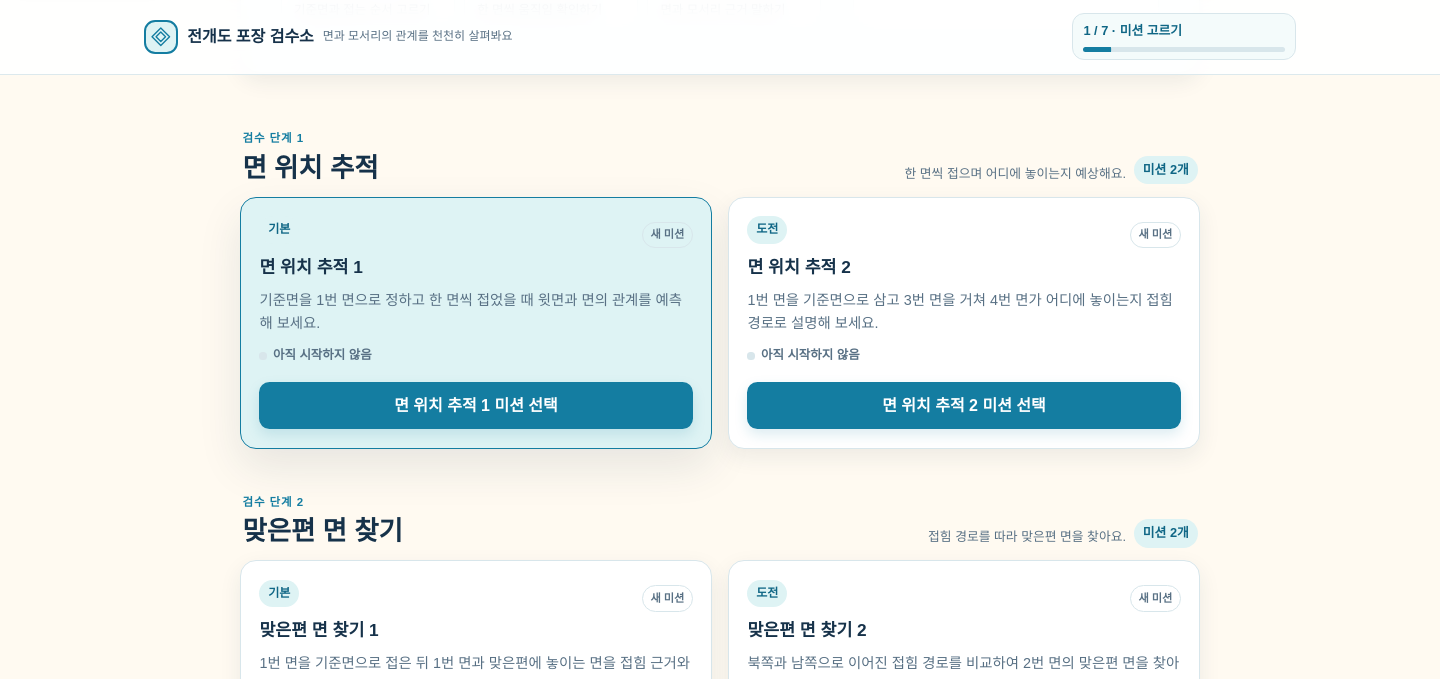
Scenario: AppShell › shows stage progress and lets a learner return to mission selection
The image size is (1440, 679).
(page scrolled)
Click the button "면 위치 추적 1 미션 선택". click: point(476, 406)
box: 259,382 -> 693,429
(page scrolled)
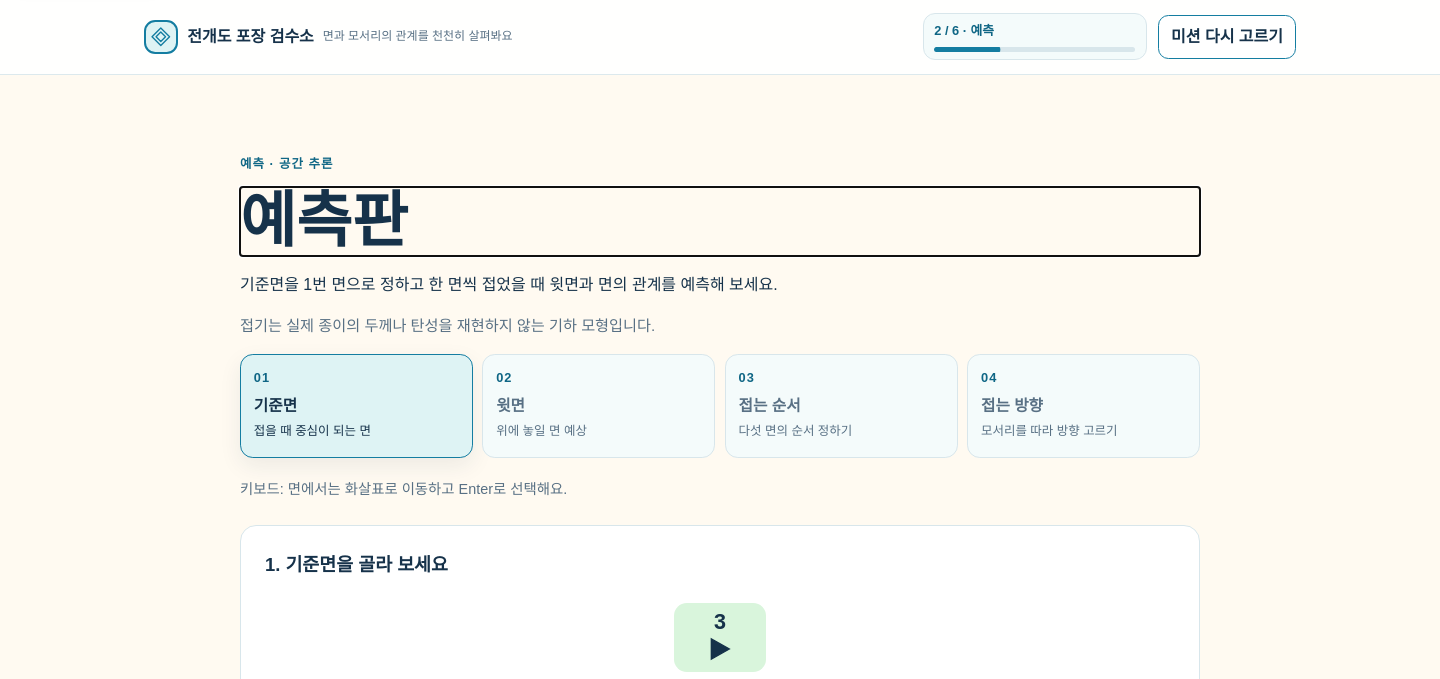
Expected: the text "2 / 6 · 예측" is shown, 934,23 -> 994,38
Click the button "미션 다시 고르기". click: point(1227, 37)
box: 1158,15 -> 1296,59
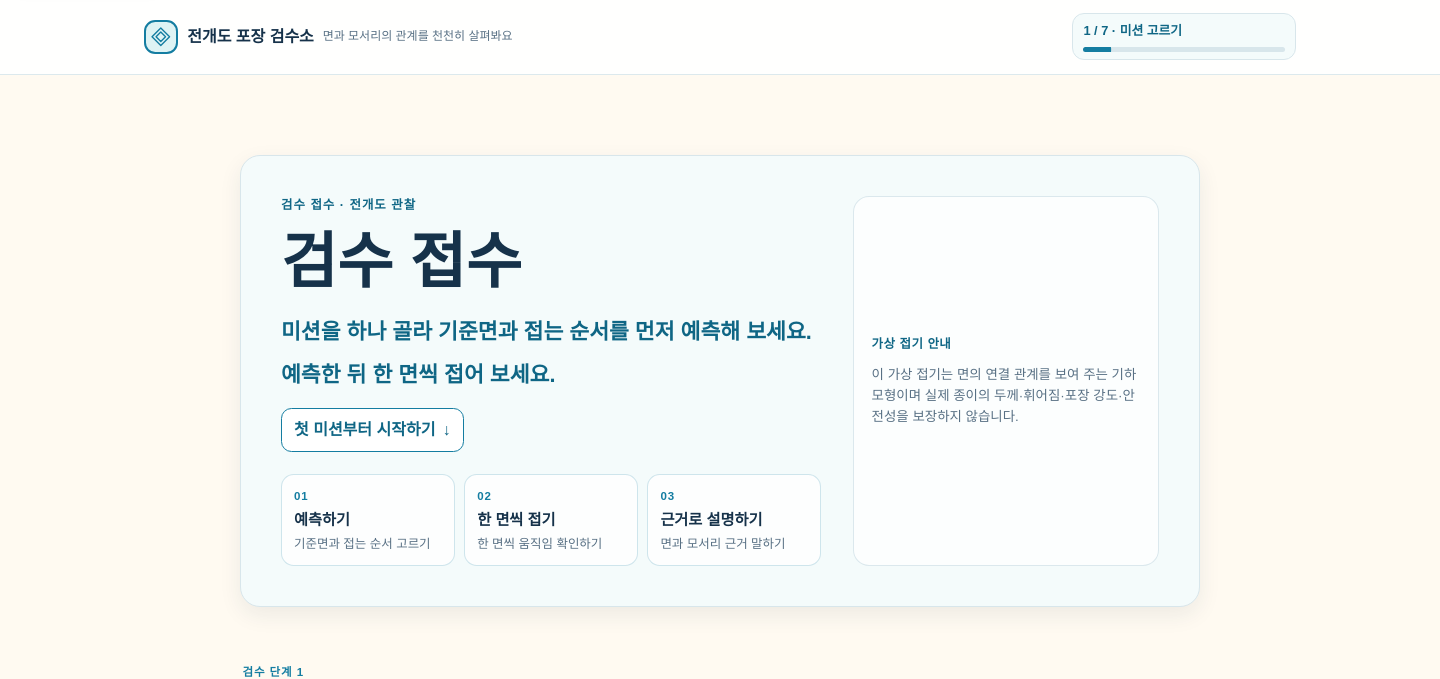
Expected: the heading "검수 접수" is shown, 281,228 -> 522,296
Expected: the text "2 / 6 · 예측" is gone
